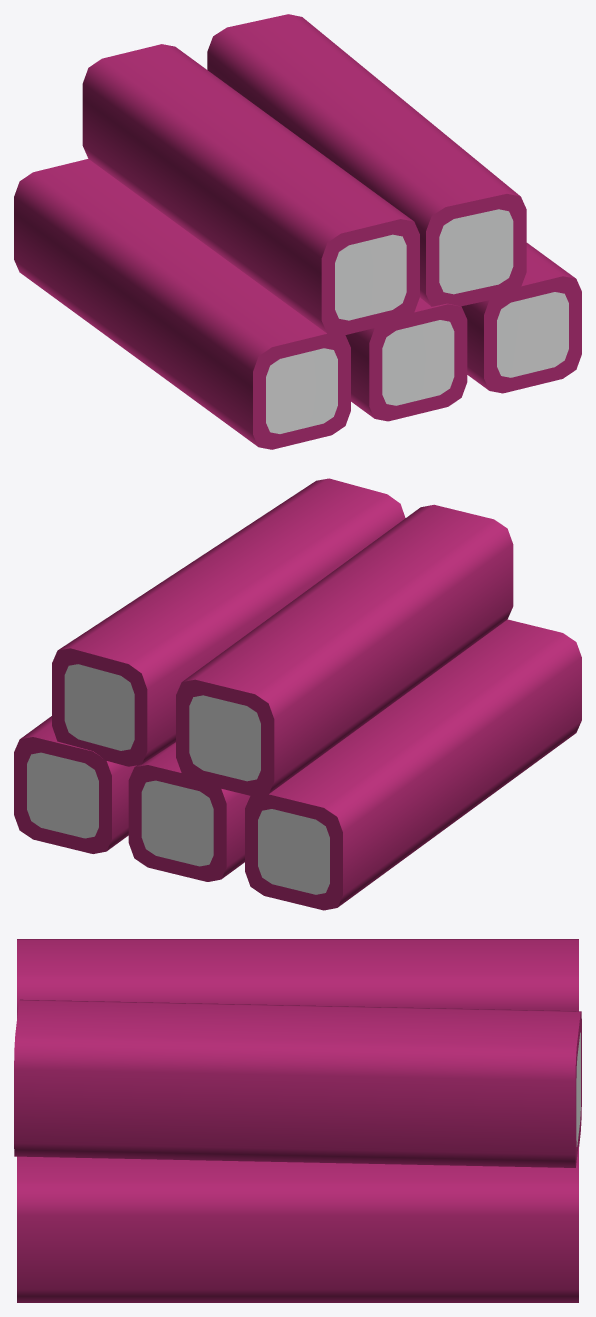
File: quaternius-sushi-restaurant-foodingredient-crabsticks.glb
The picture shows the model from 3 angles, top to bottom: view 1: azimuth 30°, elevation 25°; view 2: azimuth 150°, elevation 25°; view 3: azimuth 270°, elevation 25°; orthographic projection. The views are drawn at different scales.
Parts seen in each view (by area): view 1: FoodIngredient_Crabsticks; view 2: FoodIngredient_Crabsticks; view 3: FoodIngredient_Crabsticks.
Part boxes in pixels (x1,y1,x2,y2): FoodIngredient_Crabsticks: (14,14,581,449); FoodIngredient_Crabsticks: (14,478,581,910); FoodIngredient_Crabsticks: (14,939,581,1302).
Size of the model in its own units: 0.4231 by 0.2451 by 0.5378.
1 material, 1 textured.
